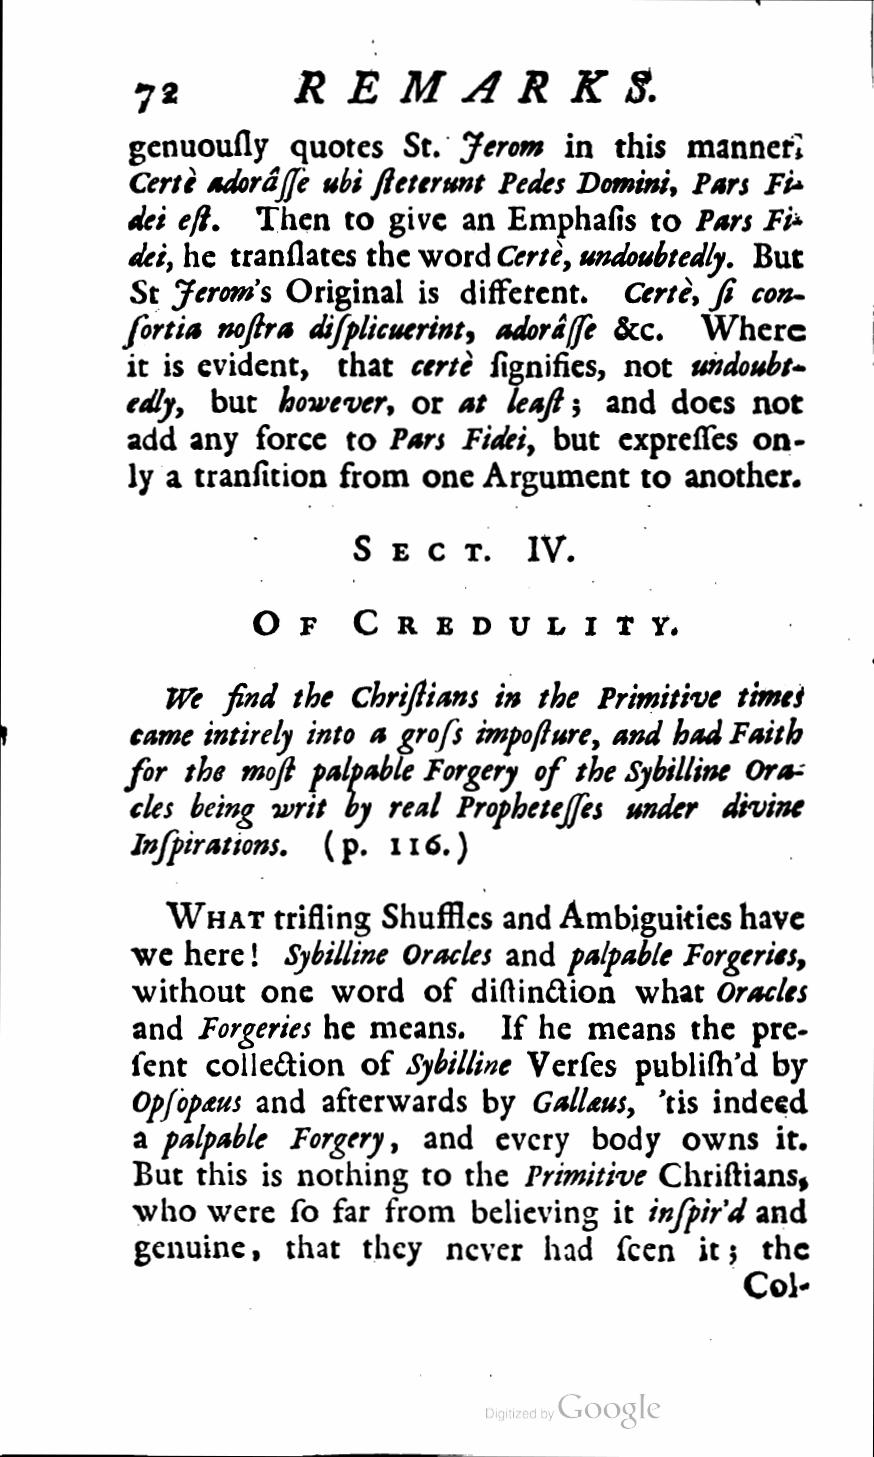bottom_p: (119, 126, 811, 499)
catchword: (740, 1269, 813, 1302)
full_p: (122, 677, 813, 868), (248, 606, 682, 644), (352, 531, 581, 569)
header: (292, 66, 659, 106)
page_num: (131, 79, 184, 116)
top_p: (127, 895, 817, 1268)
